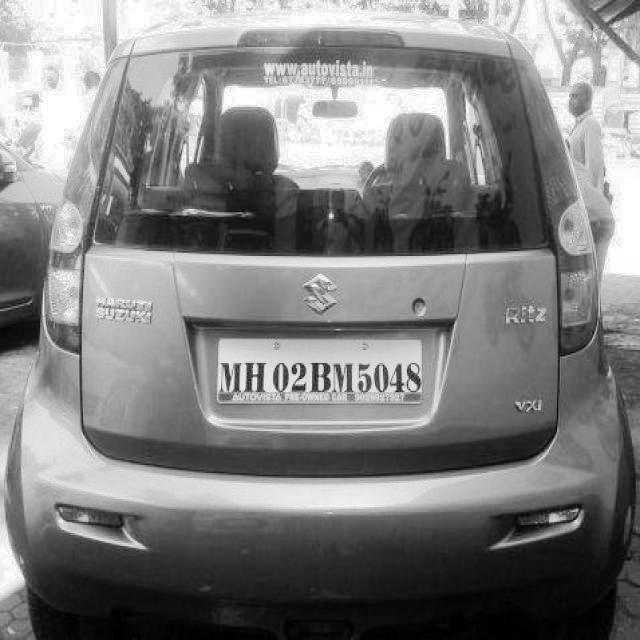Car: (58, 26, 608, 640)
